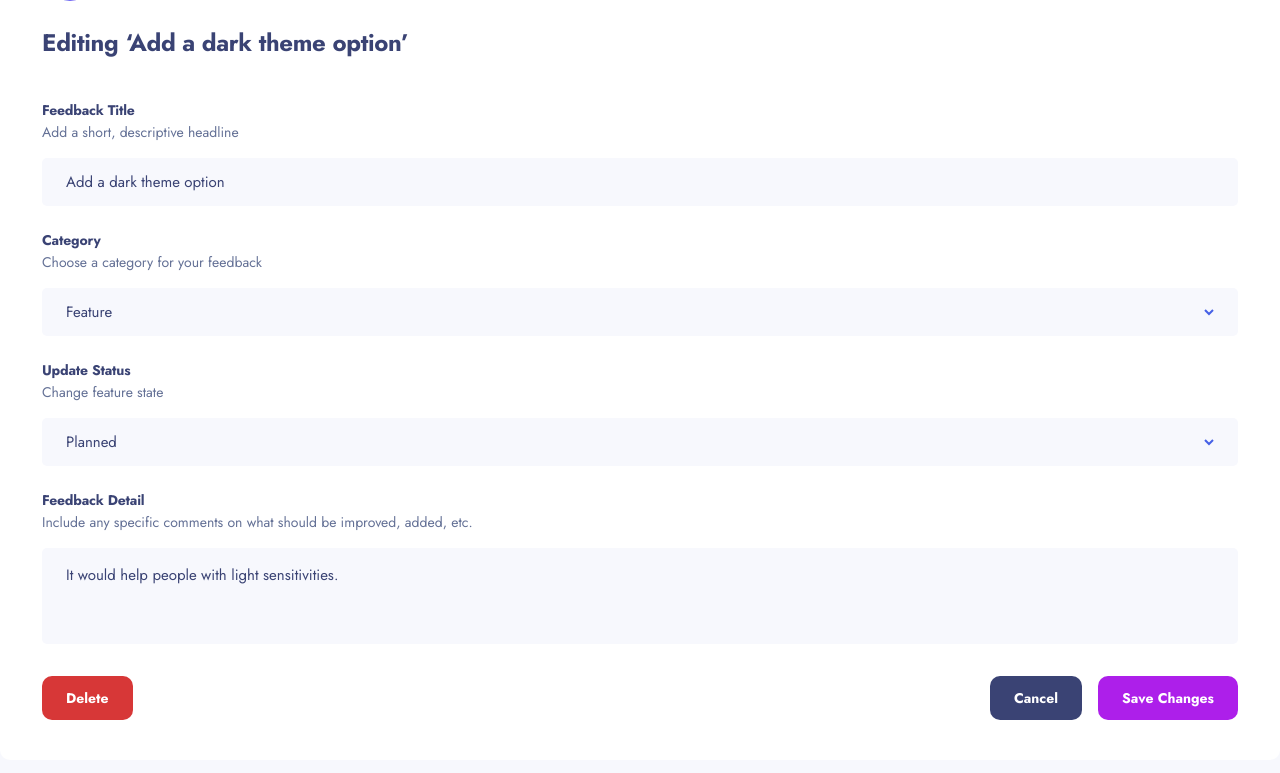
Test case: EditFeedbackForm › explains when the save is refused
(page scrolled)
Click the button "Save Changes" at point(1168, 698), box x1=1098 y1=676 x2=1238 y2=720
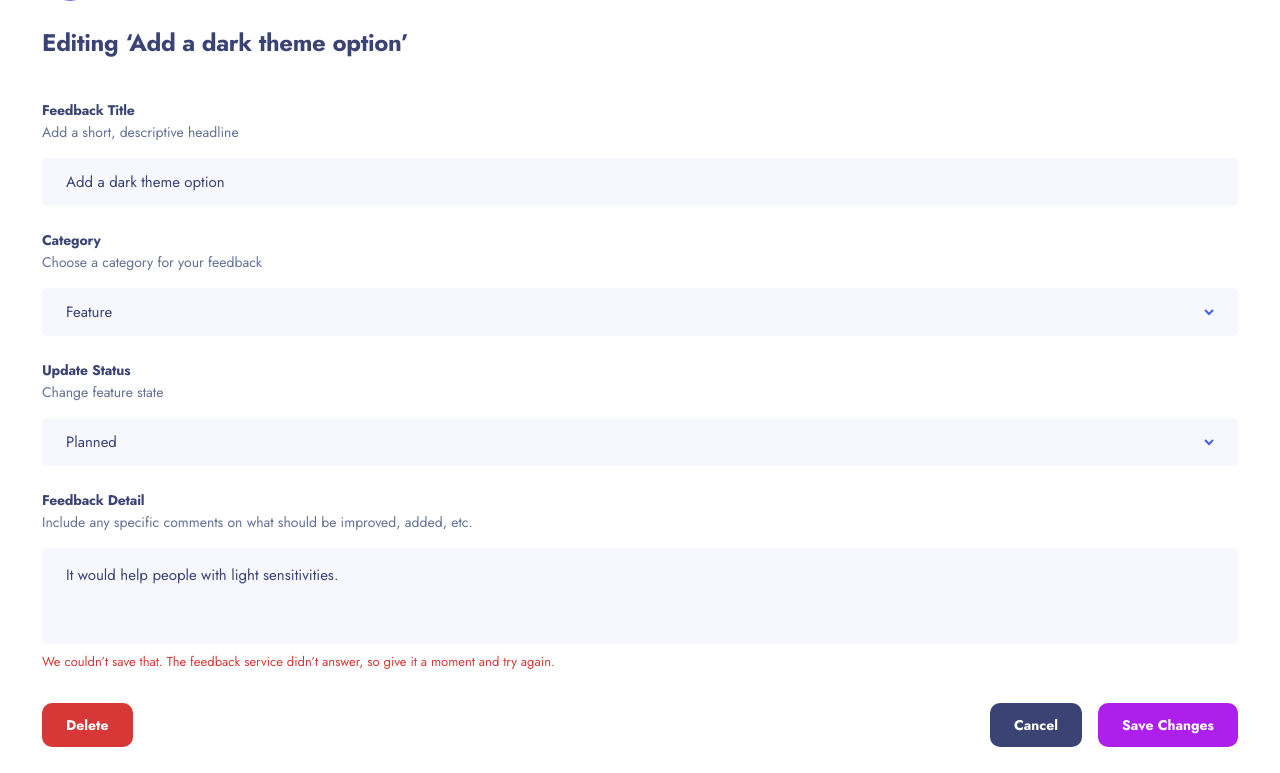
Result: the message shows "couldn’t save that" at x1=42 y1=652 x2=555 y2=671
